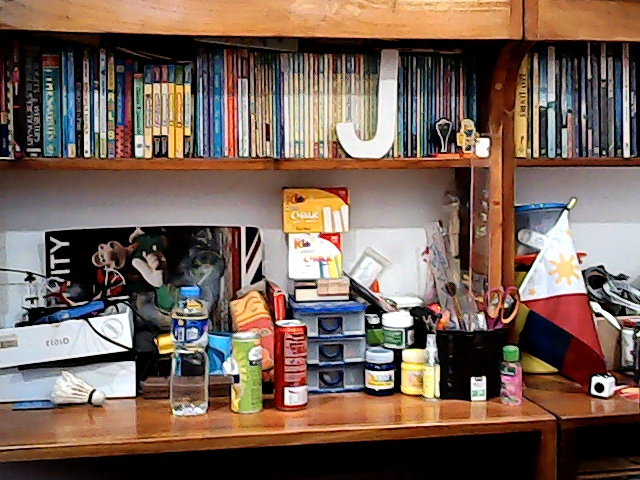Cola: (269, 310, 321, 414)
Pine Juice: (221, 318, 268, 418)
Summit Water: (163, 281, 216, 416)
